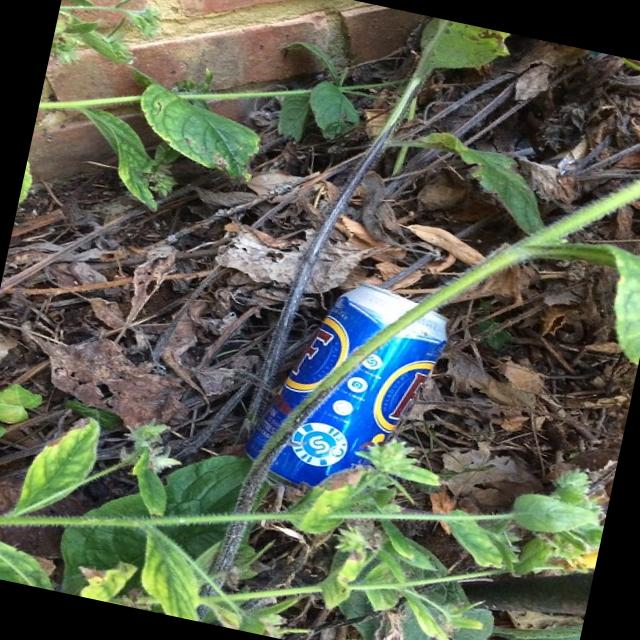Recycle: (235, 260, 456, 520)
